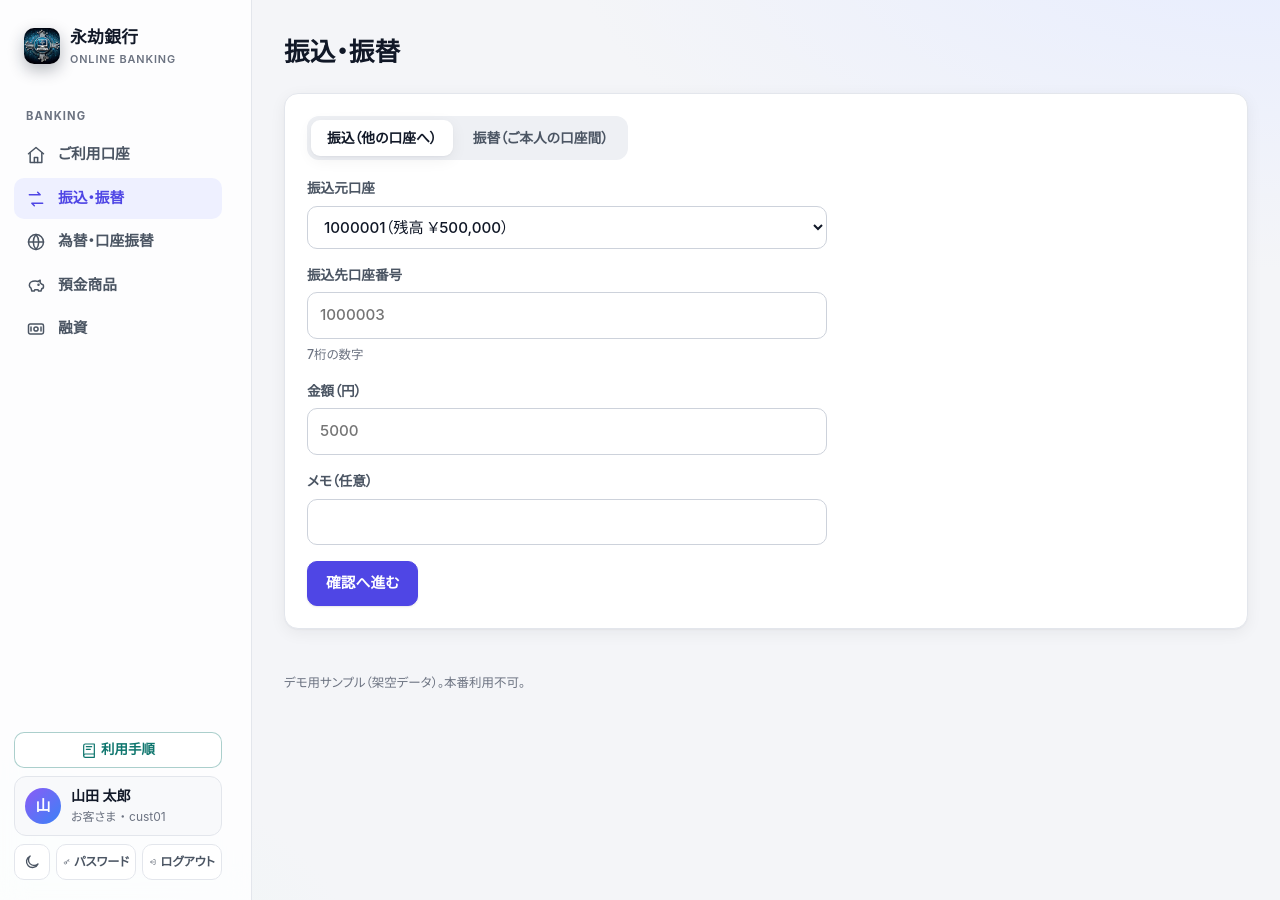
TransferPage › お客さま：振込元は利用可能な本人口座、確認画面を経て振り込む
Expected: the dropdown labelled "振込元口座" shows "1000001（残高 ￥500,000）", [307,206,827,249]
In the field labelled "振込先口座番号 7桁の数字": (567, 316) [307,292,827,339], type "１０００００３"
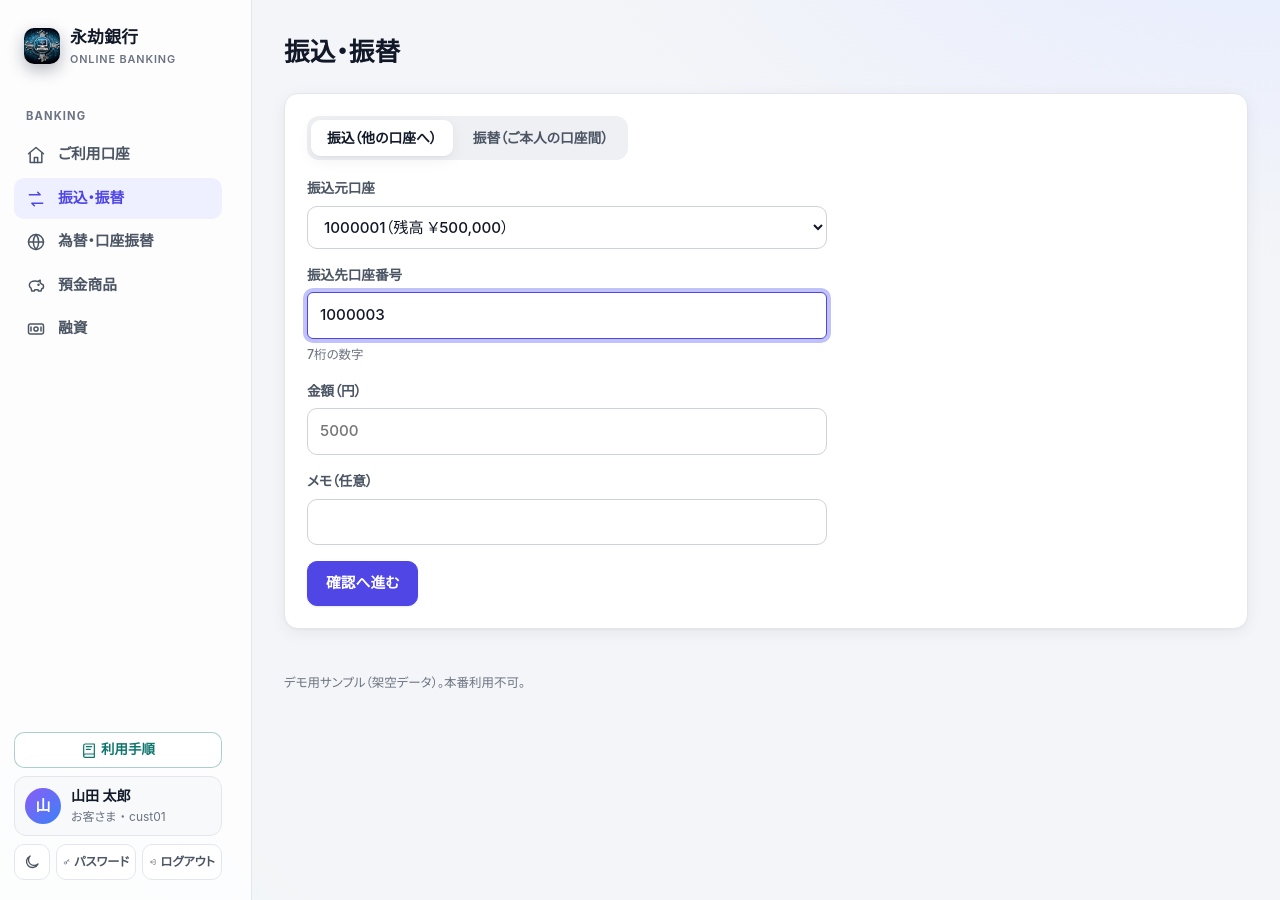
In the field labelled "金額（円）": (567, 432) [307,408,827,455], type "5,000"
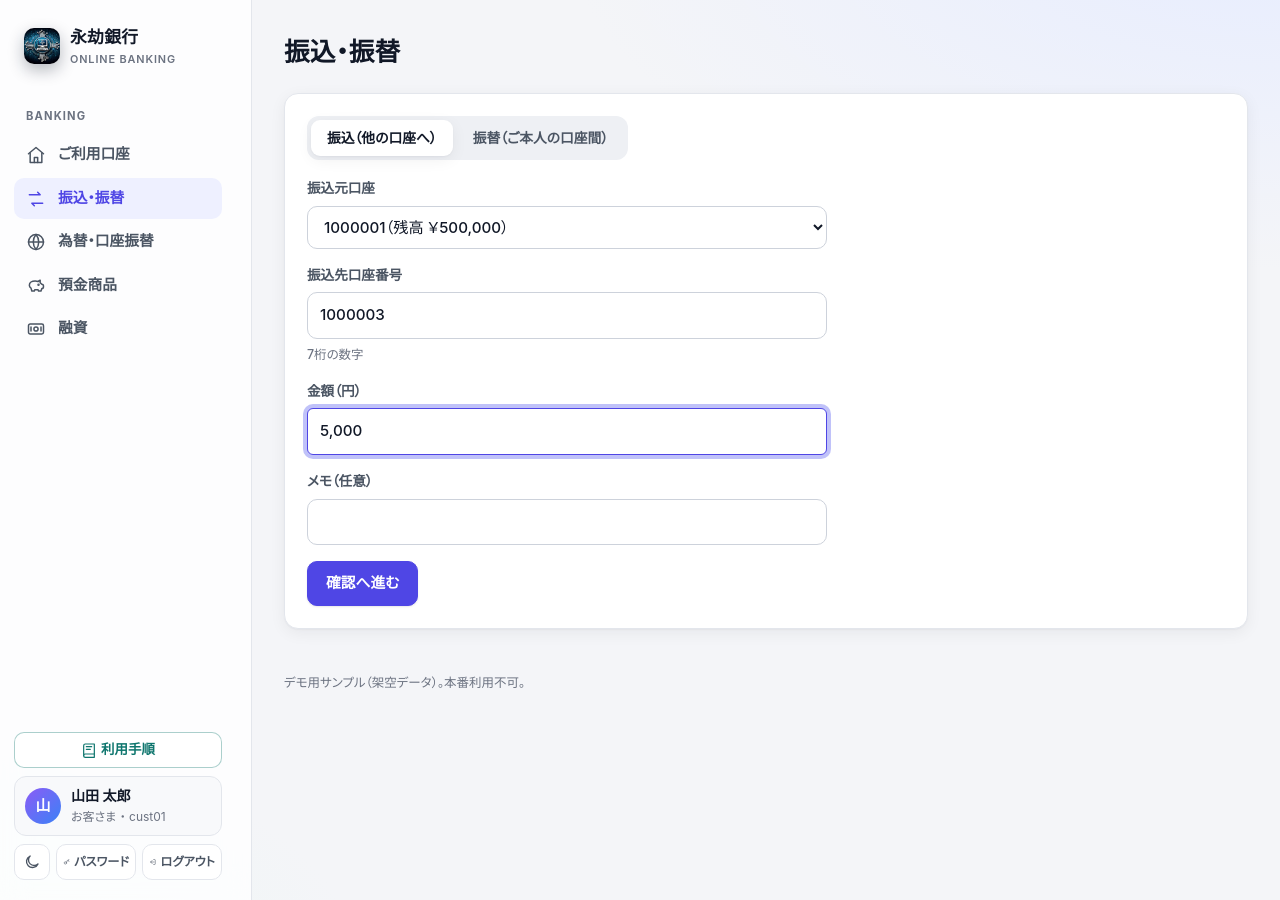
In the field labelled "メモ（任意）": (567, 522) [307,498,827,545], type "会費"
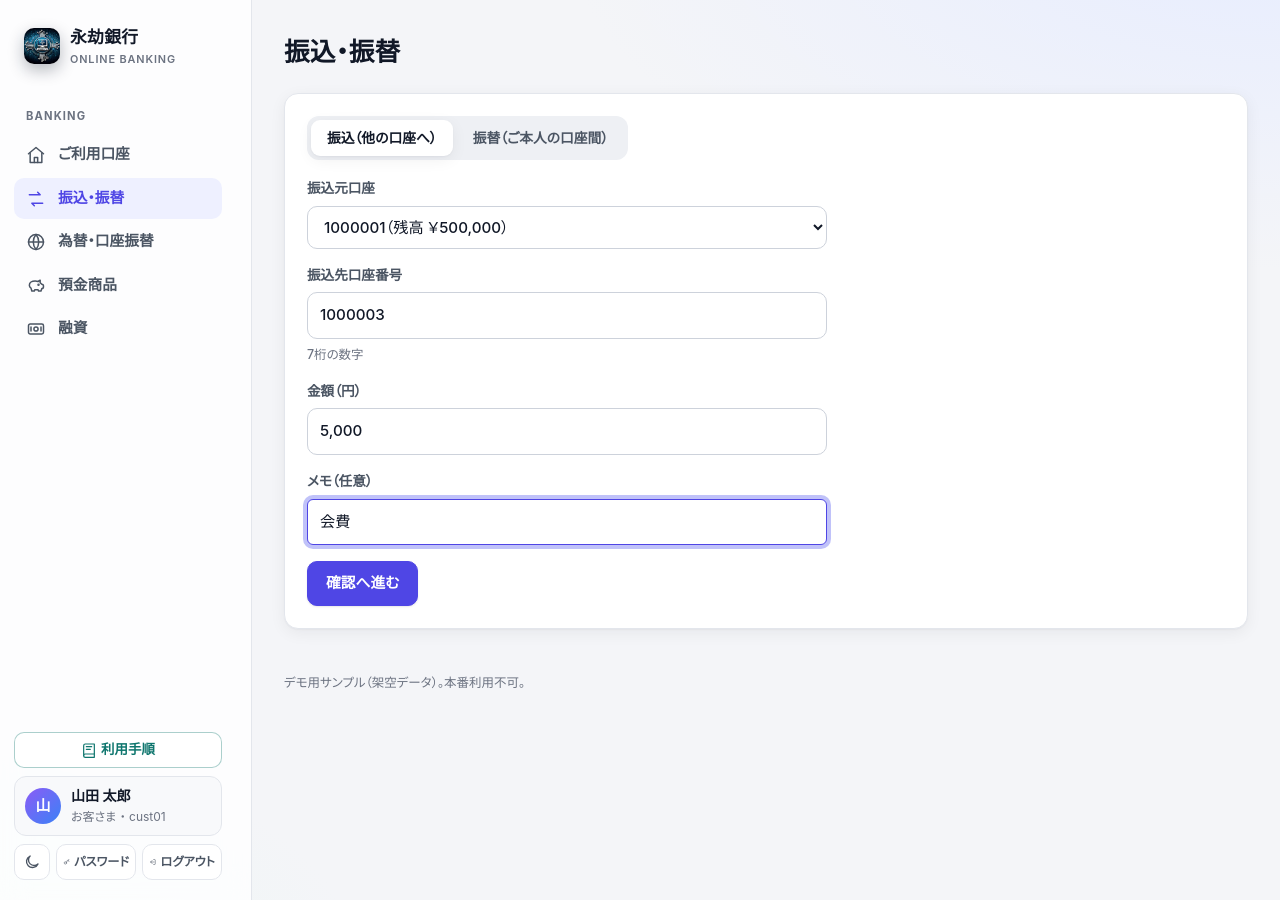
Click the button "確認へ進む": (363, 584) [307,561,418,606]
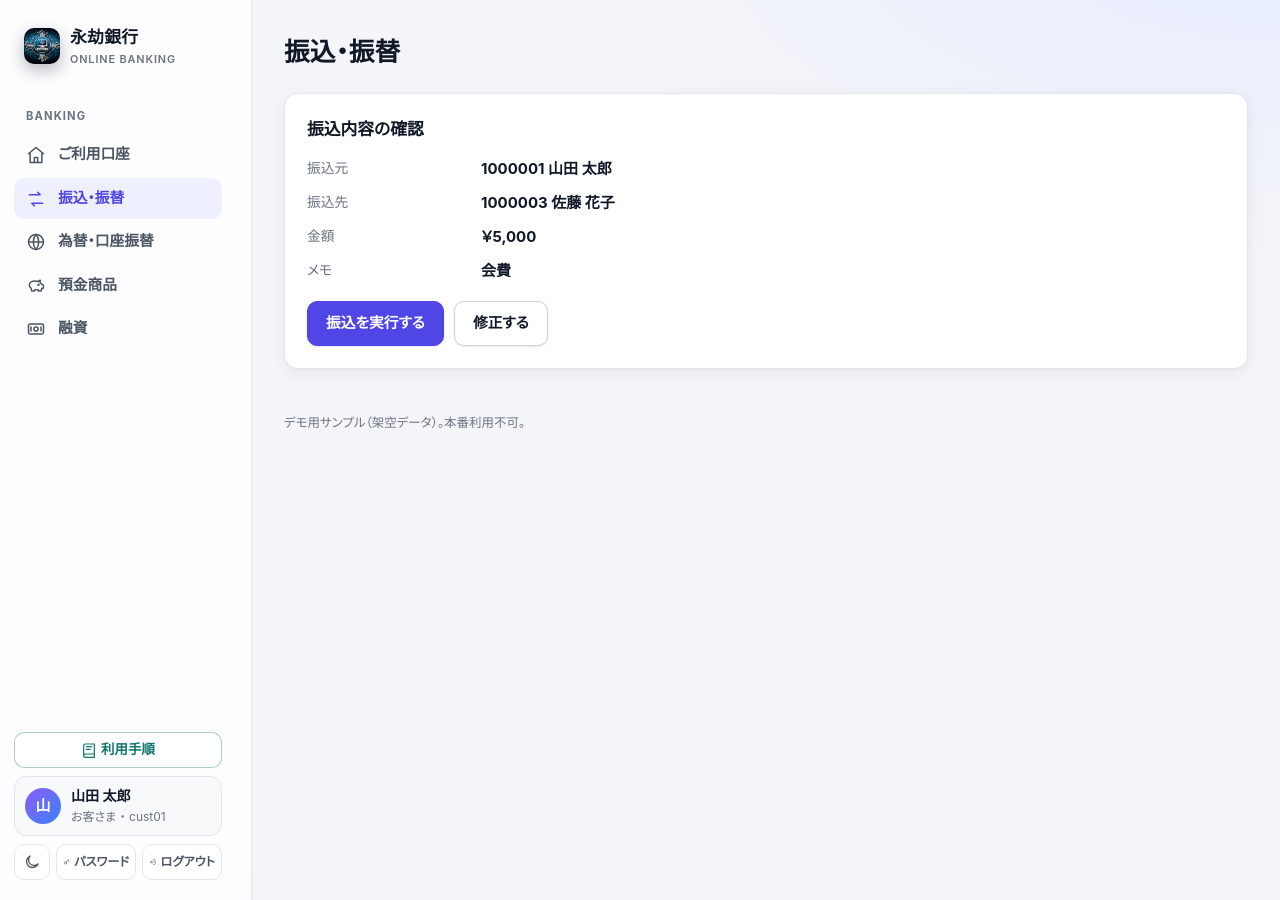
Now the heading "振込内容の確認" is shown, box [307,119,424,139]
Now the text "1000003 佐藤 花子" is shown, box [481,193,615,212]
Click the button "振込を実行する": (376, 324) [307,301,444,346]
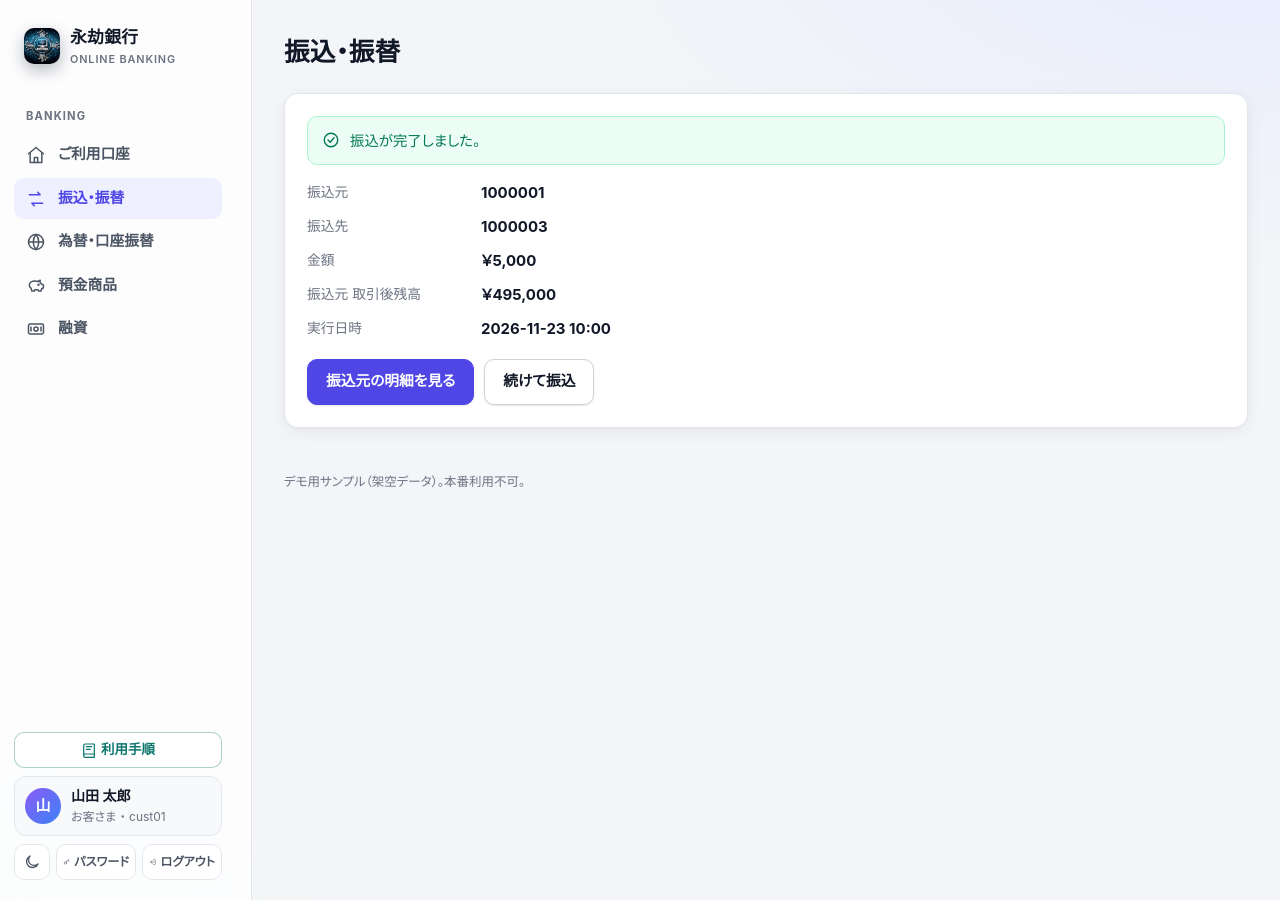
Now the text "振込が完了しました。" is shown, box [350,129,480,152]
